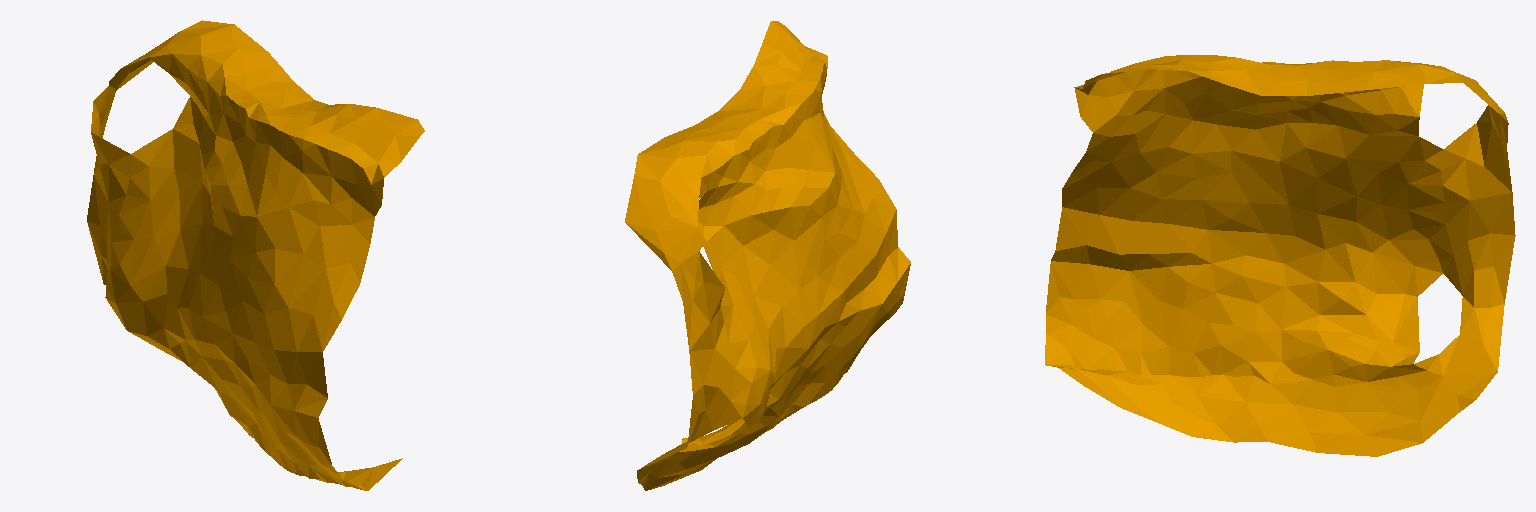
URDF robot description (init):
<?xml version='1.0' encoding='utf-8'?>
<robot name="init">
<link name="link_0"><inertial><mass value="1.0" /><origin rpy="0 0 0" xyz="0.000000 0.000000 0.000000" /><inertia ixx="1.0" ixy="0.0" ixz="0.0" iyy="1.0" iyz="0.0" izz="1.0" /></inertial><visual><origin rpy="0 0 0" xyz="0.000000 0.000000 0.000000" /><geometry><mesh filename="./clothHuman/cloth/2525.obj" /></geometry></visual><collision><origin rpy="0 0 0" xyz="0.000000 0.000000 0.000000" /><geometry><mesh filename="./clothHuman/cloth/2525.obj" /></geometry></collision></link></robot>

--- Render facts (derived) ---
Views: 3 orthographic renders of the robot side by side, from view 1: azimuth 30°, elevation 25°; view 2: azimuth 150°, elevation 25°; view 3: azimuth 270°, elevation 25°.
Model init with 1 links and 0 joints (none), rooted at link_0, posed all joints at 0.
Links seen in each view (by area): view 1: link_0; view 2: link_0; view 3: link_0.
Link boxes in pixels (left/top/right/bottom): link_0: left=87, top=20, right=424, bottom=490; link_0: left=625, top=21, right=910, bottom=490; link_0: left=1045, top=55, right=1515, bottom=456.
Bounding box of the posed robot: 1.4 × 3.95 × 3.66 m (x, y, z).
1 mesh visuals loaded from 1 distinct referenced files (1 OBJ).